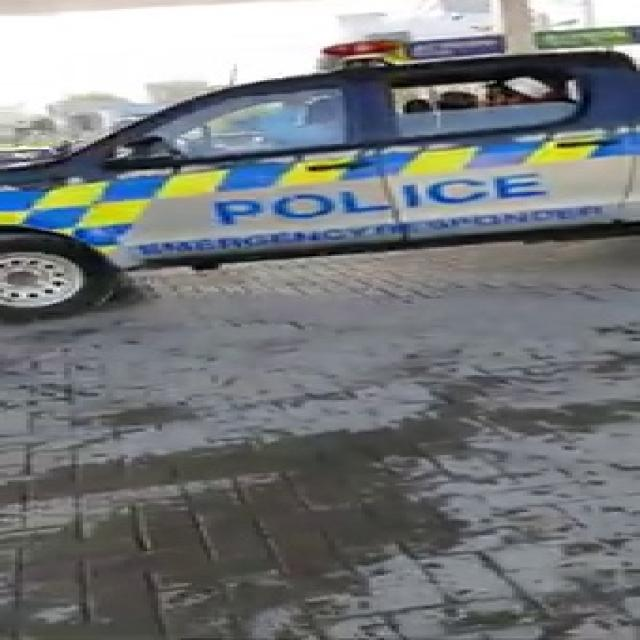police: (0, 1, 640, 294)
